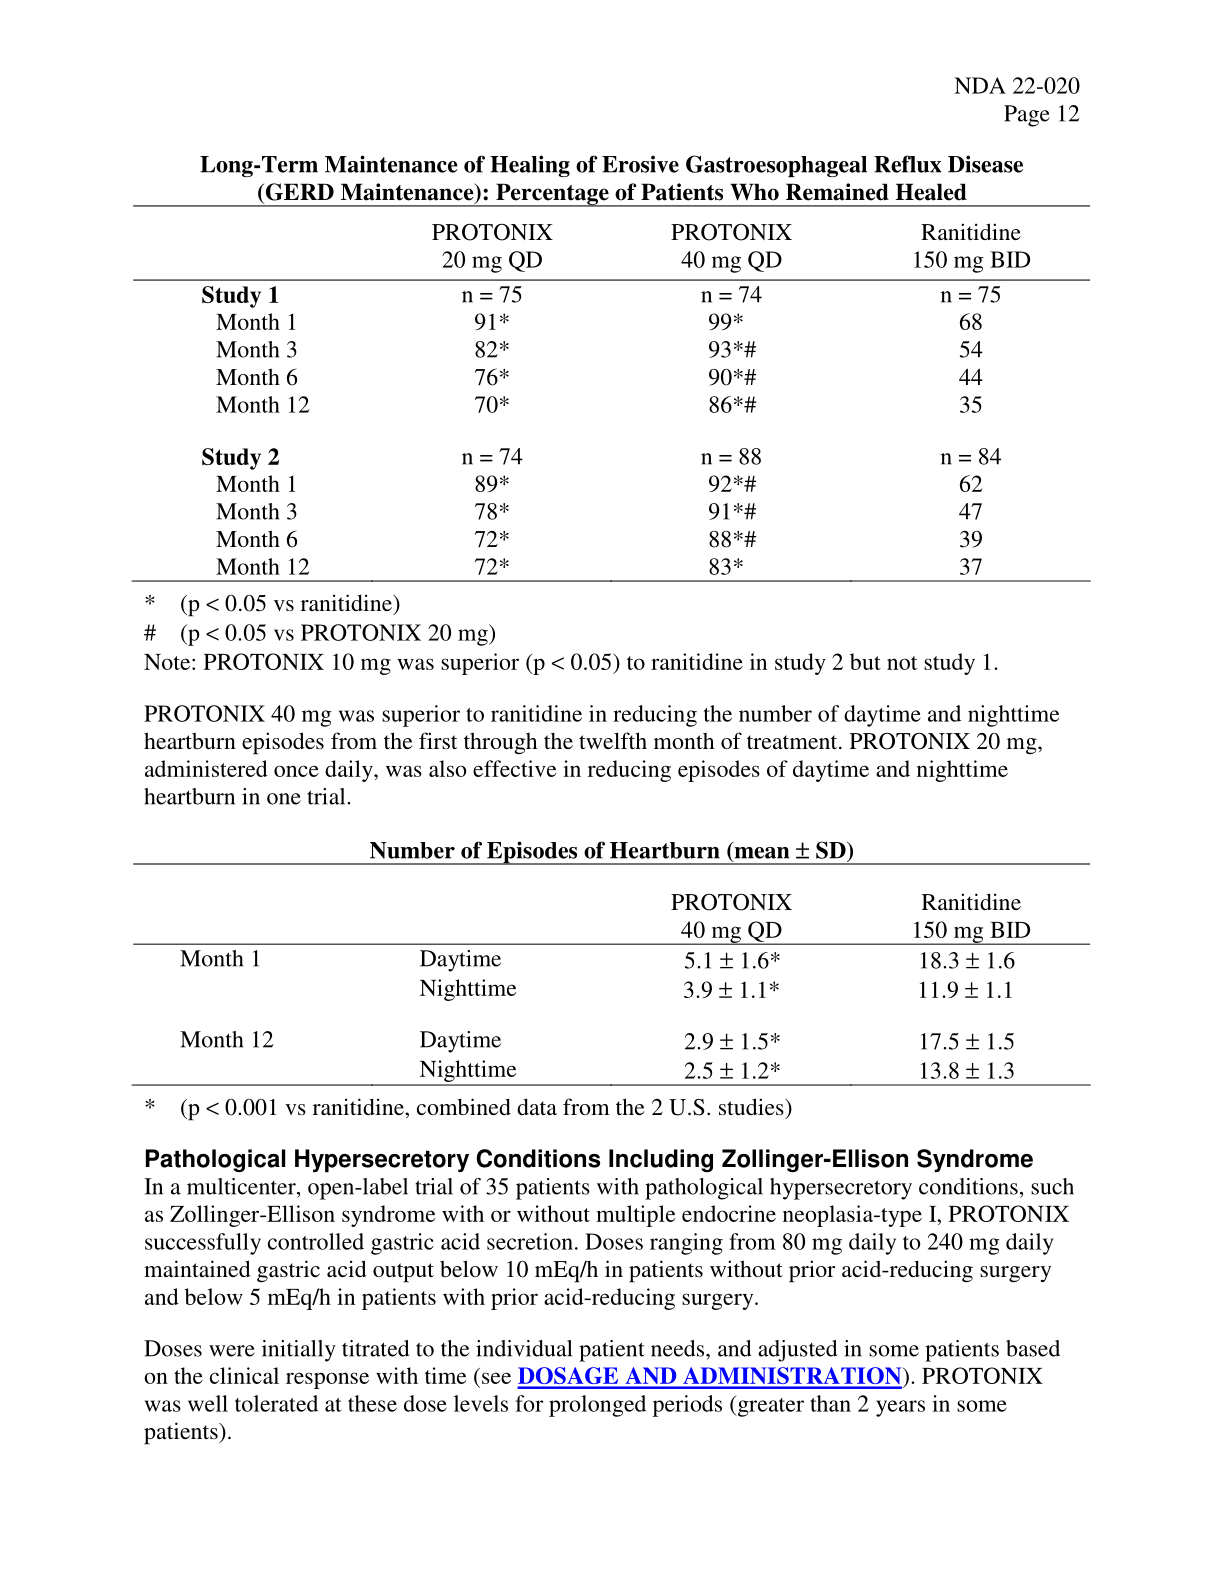partial_lined: (131, 203, 1092, 582), (130, 860, 1093, 1088)
